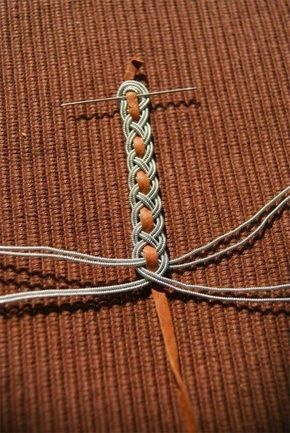cuero: (122, 59, 198, 433)
